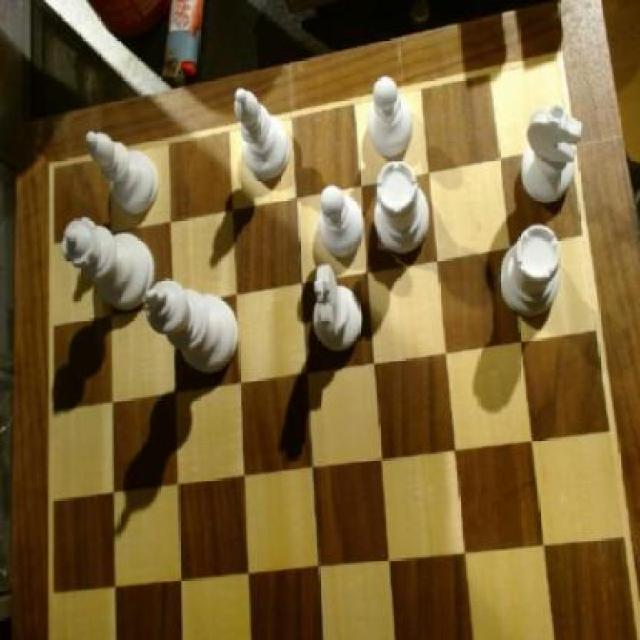black-rook: (85, 128, 162, 219), (226, 88, 296, 184)
white-bishop: (145, 276, 242, 376)
white-king: (514, 104, 589, 214), (312, 264, 366, 356)
white-knight: (366, 74, 419, 166), (316, 182, 366, 264)
white-pawn: (63, 212, 156, 317)
white-queen: (496, 222, 568, 322), (374, 160, 434, 255)
